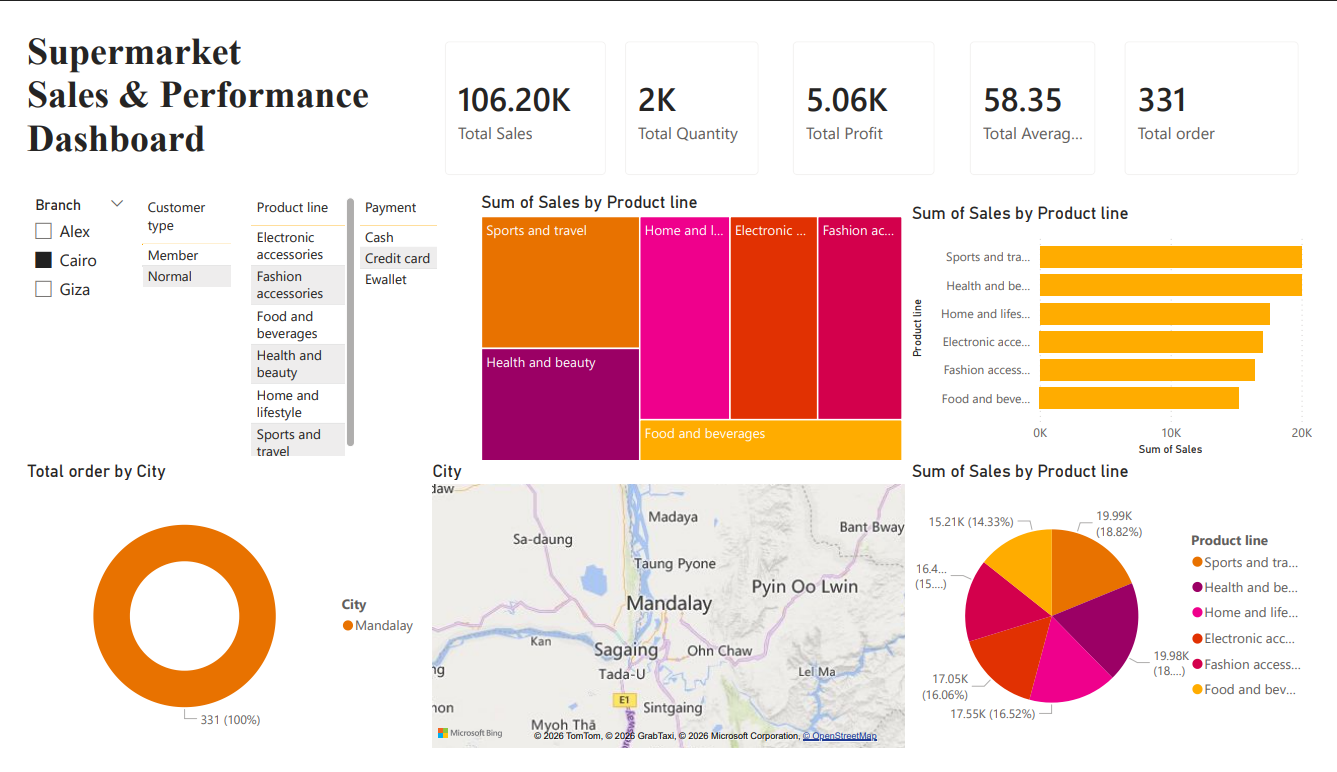

The dashboard page shown, as its layout file describes it:
{"tool":"powerbi","page":{"name":"Page 1","canvas":[1280,720],"ordinal":0},"visuals":[{"type":"cardVisual","fields":{"Data":["SuperMarket Analysis.Total Sales"]},"box":[401,0,193,166.4],"z":0},{"type":"cardVisual","fields":{"Data":["SuperMarket Analysis.Total Quantity"]},"box":[579,0,166.4,166.4],"z":1000},{"type":"cardVisual","fields":{"Data":["SuperMarket Analysis.Total Average of Value"]},"box":[920.1,0,158.1,166.4],"z":2000},{"type":"cardVisual","fields":{"Data":["SuperMarket Analysis.Total rating"]},"box":[941.8,176.4,169.7,113.1],"z":3000},{"type":"pieChart","fields":{"Category":["SuperMarket Analysis.Product line"],"Y":["Sum(SuperMarket Analysis.Sales)"]},"box":[875.2,430.9,404.3,289.5],"z":4000},{"type":"barChart","fields":{"Category":["SuperMarket Analysis.Product line"],"Y":["Sum(SuperMarket Analysis.Sales)"]},"box":[875.2,176.4,404.3,254.6],"z":5000},{"type":"treemap","fields":{"Group":["SuperMarket Analysis.Product line"],"Values":["Sum(SuperMarket Analysis.Sales)"]},"box":[449.3,166.4,426,289.5],"z":6000},{"type":"filledMap","fields":{"Category":["SuperMarket Analysis.City"]},"box":[401,430.9,475.9,289.5],"z":7000},{"type":"donutChart","fields":{"Category":["SuperMarket Analysis.City"],"Y":["SuperMarket Analysis.Total order"]},"box":[0,430.9,401,289.5],"z":8000},{"type":"textbox","box":[0,0,401,166.4],"z":9000},{"type":"cardVisual","fields":{"Data":["SuperMarket Analysis.Total order"]},"box":[1073.2,0,206.3,166.4],"z":10000},{"type":"cardVisual","fields":{"Data":["SuperMarket Analysis.Total Profit"]},"box":[745.4,0,174.7,166.4],"z":11000},{"type":"slicer","fields":{"Values":["SuperMarket Analysis.Branch"]},"box":[0,166.4,113.1,264.6],"z":12000},{"type":"tableEx","fields":{"Values":["SuperMarket Analysis.Customer type"]},"box":[113.1,166.4,108.2,264.6],"z":13000},{"type":"tableEx","fields":{"Values":["SuperMarket Analysis.Product line"]},"box":[221.3,166.4,113.1,264.6],"z":14000},{"type":"tableEx","fields":{"Values":["SuperMarket Analysis.Payment"]},"box":[327.8,166.4,121.5,264.6],"z":15000}]}

Visuals, with their boxes in screenshot pixels (x1, y1, x2, y2), scaled from the page's 1280x720 canvas onto the 1337x772 screenshot:
cardVisual - SuperMarket Analysis.Total Sales: 419 0 620 178
cardVisual - SuperMarket Analysis.Total Quantity: 605 0 779 178
cardVisual - SuperMarket Analysis.Total Average of Value: 961 0 1126 178
cardVisual - SuperMarket Analysis.Total rating: 984 189 1161 310
pieChart - SuperMarket Analysis.Product line x Sum(SuperMarket Analysis.Sales): 914 462 1336 771
barChart - SuperMarket Analysis.Product line x Sum(SuperMarket Analysis.Sales): 914 189 1336 462
treemap - SuperMarket Analysis.Product line x Sum(SuperMarket Analysis.Sales): 469 178 914 489
filledMap - SuperMarket Analysis.City: 419 462 916 771
donutChart - SuperMarket Analysis.City x SuperMarket Analysis.Total order: 0 462 419 771
textbox: 0 0 419 178
cardVisual - SuperMarket Analysis.Total order: 1121 0 1336 178
cardVisual - SuperMarket Analysis.Total Profit: 779 0 961 178
slicer - SuperMarket Analysis.Branch: 0 178 118 462
tableEx - SuperMarket Analysis.Customer type: 118 178 231 462
tableEx - SuperMarket Analysis.Product line: 231 178 349 462
tableEx - SuperMarket Analysis.Payment: 342 178 469 462
